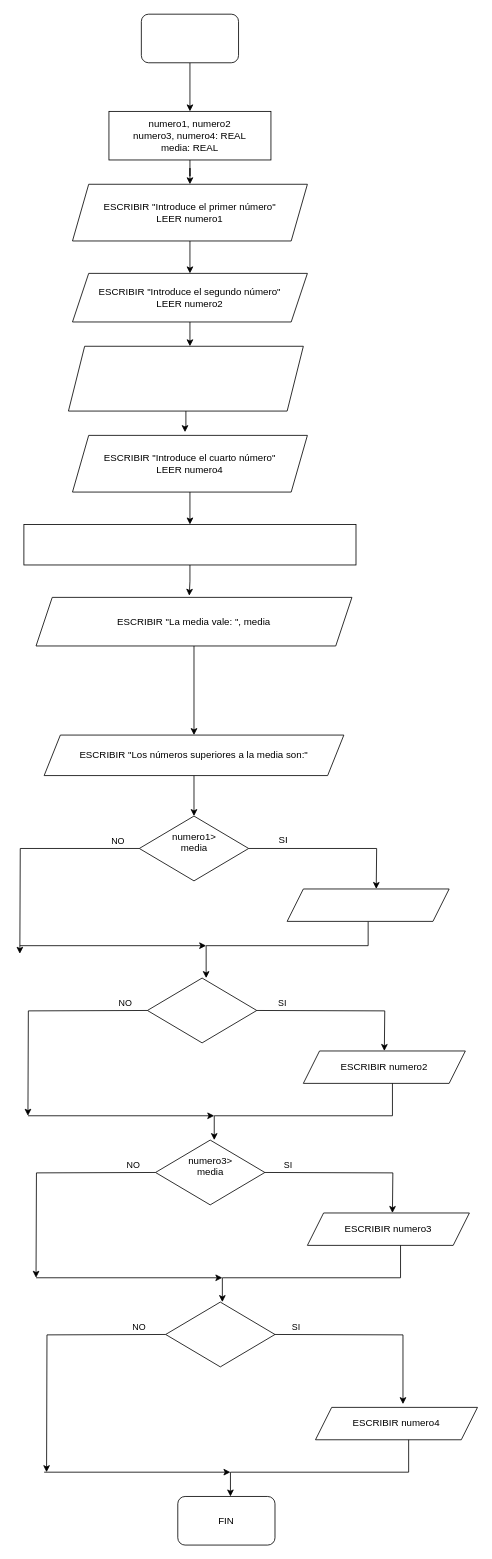
Some shapes in this 492 by 1559 pixel diagram are drawn without their labels. Here are the shapes that lost their labels. From the top down, the box of each, then its label:
(141, 13, 239, 63): INICIO
(68, 345, 303, 411): ESCRIBIR "Introduce el tercer número" LEER numero3
(23, 524, 356, 565): media <- (numero1+numero2+numero3+ numero4) / 4
(286, 888, 449, 921): ESCRIBIR numero1
(147, 977, 257, 1043): numero2> media
(165, 1301, 275, 1367): numero4> media
